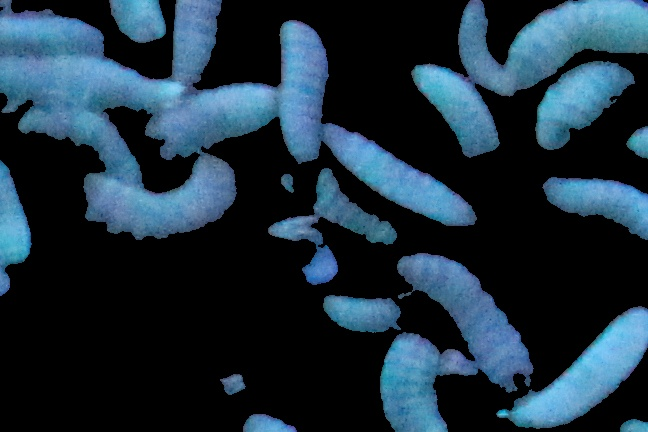larvae: (398, 252, 534, 391), (511, 306, 648, 432), (324, 122, 477, 225), (83, 156, 237, 238), (507, 1, 648, 83), (19, 106, 144, 186), (1, 61, 193, 111), (149, 85, 275, 159), (533, 60, 636, 150), (411, 63, 500, 157), (542, 174, 648, 244), (277, 20, 328, 165), (314, 169, 399, 244), (378, 331, 441, 432), (457, 1, 513, 93), (1, 11, 106, 58), (172, 1, 223, 79), (321, 293, 416, 331), (111, 1, 170, 53)
